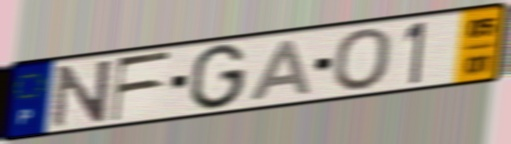1: (403, 19, 428, 86)
A: (246, 37, 314, 104)
F: (108, 48, 175, 124)
G: (186, 42, 249, 112)
N: (49, 57, 116, 131)
O: (330, 26, 395, 93)
